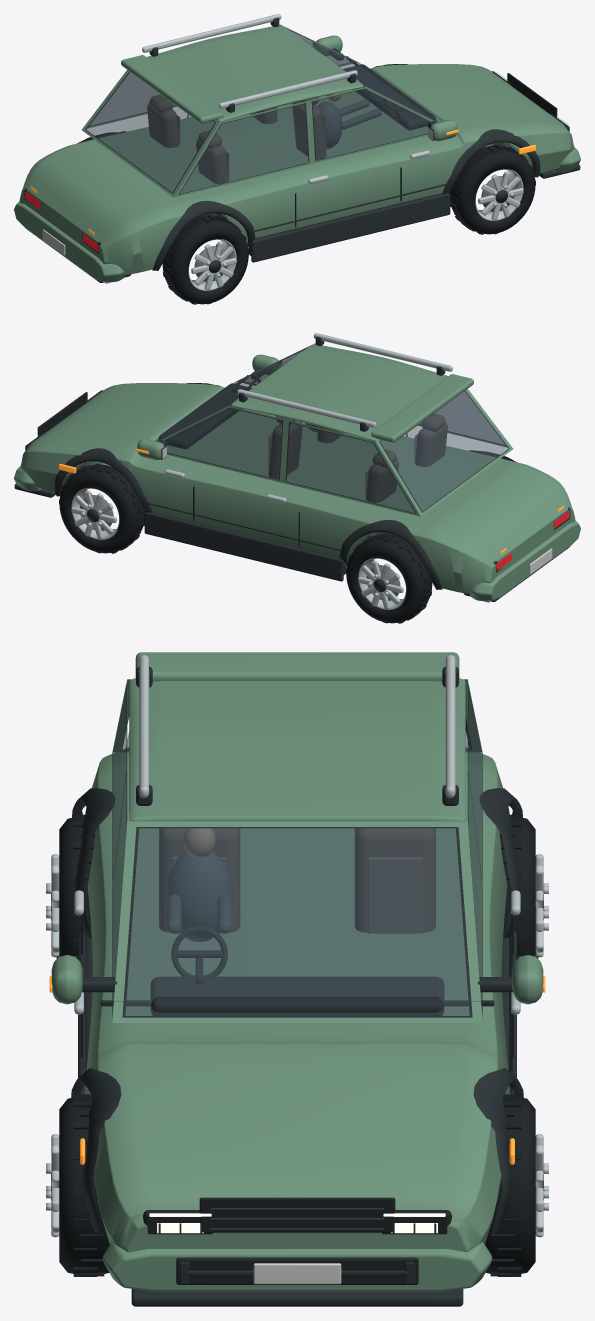
File: city-suv-v1.glb
3 renders of one model, top to bottom at view 1: azimuth 30°, elevation 25°; view 2: azimuth 150°, elevation 25°; view 3: azimuth 270°, elevation 25°, orthographic. The views are drawn at different scales.
Parts seen in each view (by area): view 1: Sculpted one-piece painted body, Crowned painted roof, Rear windscreen, Rear side glass, Front side glass, Matte SUV rocker cladding, Rounded tire rear_left, Rounded tire front_left, SUV rear roof spoiler, Sculpted rear bumper skin, Dashboard upper pad, Rear side glass.001 (+15 smaller); view 2: Sculpted one-piece painted body, Crowned painted roof, Rear windscreen, Rear side glass.001, Front side glass.001, Matte SUV rocker cladding.001, Rounded tire rear_right, Rounded tire front_right, SUV rear roof spoiler, Sculpted rear bumper skin, Dashboard upper pad, Rear side glass (+14 smaller); view 3: Sculpted one-piece painted body, Front windscreen, Crowned painted roof, Dashboard upper pad, Sculpted front bumper skin, SUV rear roof spoiler, SUV recessed upper grille, Front splitter, Contoured seat back.001, Rounded tire front_left, Rounded tire front_right, Upholstered back insert.001 (+26 smaller).
Part boxes in pixels (bbox=[...]): Sculpted one-piece painted body: bbox=[19, 64, 574, 274]; Crowned painted roof: bbox=[147, 25, 363, 121]; Rear windscreen: bbox=[86, 72, 214, 192]; Rear side glass: bbox=[180, 104, 308, 193]; Front side glass: bbox=[312, 89, 429, 160]; Matte SUV rocker cladding: bbox=[251, 193, 450, 262]; Rounded tire rear_left: bbox=[162, 215, 248, 304]; Rounded tire front_left: bbox=[450, 145, 535, 234]; SUV rear roof spoiler: bbox=[121, 55, 223, 123]; Sculpted rear bumper skin: bbox=[14, 201, 125, 281]; Dashboard upper pad: bbox=[343, 64, 436, 130]; Rear side glass.001: bbox=[90, 72, 174, 125]; Sculpted one-piece painted body: bbox=[20, 383, 575, 593]; Crowned painted roof: bbox=[231, 344, 447, 440]; Rear windscreen: bbox=[380, 391, 508, 511]; Rear side glass.001: bbox=[286, 423, 414, 512]; Front side glass.001: bbox=[165, 408, 282, 479]; Matte SUV rocker cladding.001: bbox=[144, 512, 343, 581]; Rounded tire rear_right: bbox=[346, 534, 432, 623]; Rounded tire front_right: bbox=[59, 464, 144, 553]; SUV rear roof spoiler: bbox=[371, 374, 473, 442]; Sculpted rear bumper skin: bbox=[469, 520, 580, 600]; Dashboard upper pad: bbox=[158, 383, 251, 449]; Rear side glass: bbox=[420, 391, 504, 444]; Sculpted one-piece painted body: bbox=[84, 747, 510, 1252]; Front windscreen: bbox=[125, 828, 469, 1015]; Crowned painted roof: bbox=[129, 678, 465, 821]; Dashboard upper pad: bbox=[150, 976, 444, 1015]; Sculpted front bumper skin: bbox=[102, 1242, 492, 1291]; SUV rear roof spoiler: bbox=[135, 652, 459, 681]; SUV recessed upper grille: bbox=[199, 1197, 395, 1232]; Front splitter: bbox=[131, 1289, 463, 1306]; Contoured seat back.001: bbox=[354, 828, 435, 932]; Rounded tire front_left: bbox=[59, 1097, 109, 1274]; Rounded tire front_right: bbox=[485, 1097, 535, 1274]; Upholstered back insert.001: bbox=[368, 857, 422, 933].
Size of the model in its own units: 5.13 by 1.82 by 2.29.
